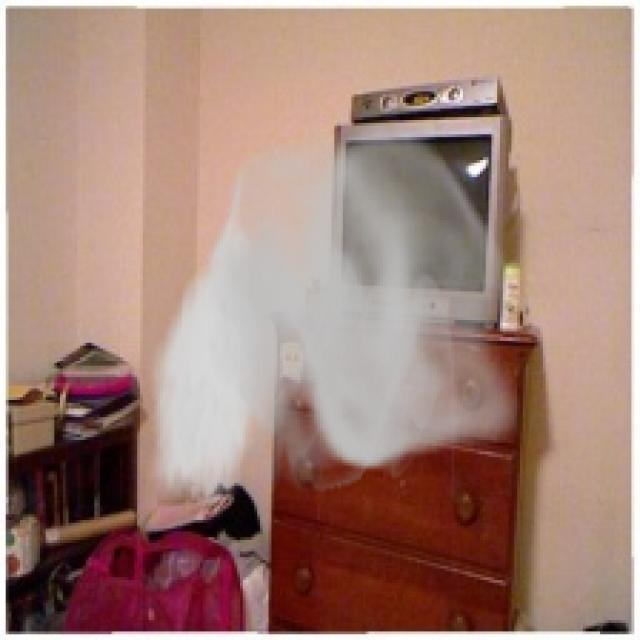smoke: (146, 112, 520, 517)
